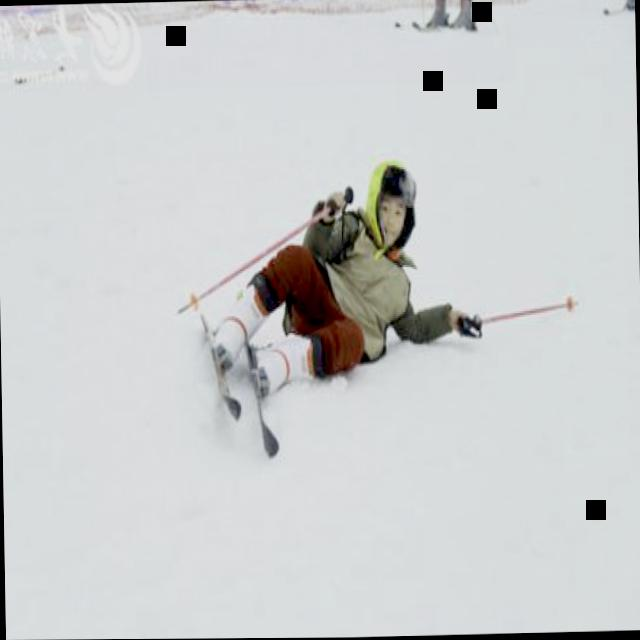Fall-Detected: (197, 127, 491, 431)
